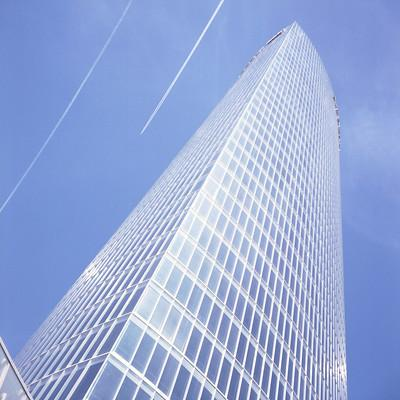building: (21, 20, 350, 400)
